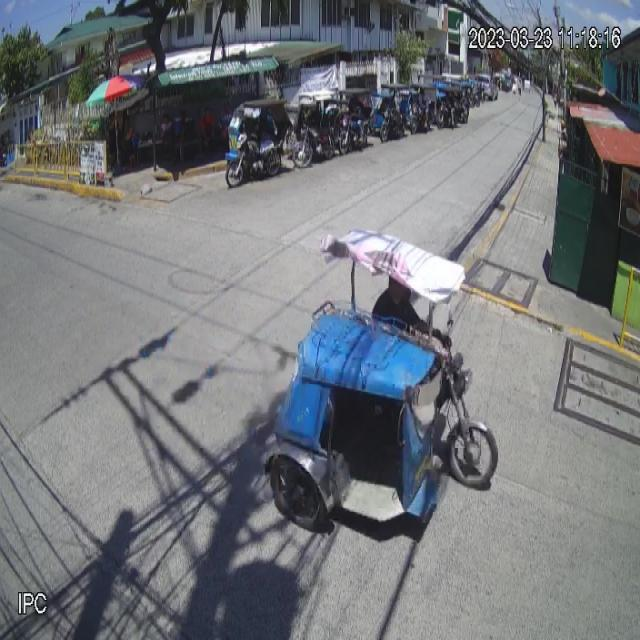Tricycle: (263, 227, 500, 535)
